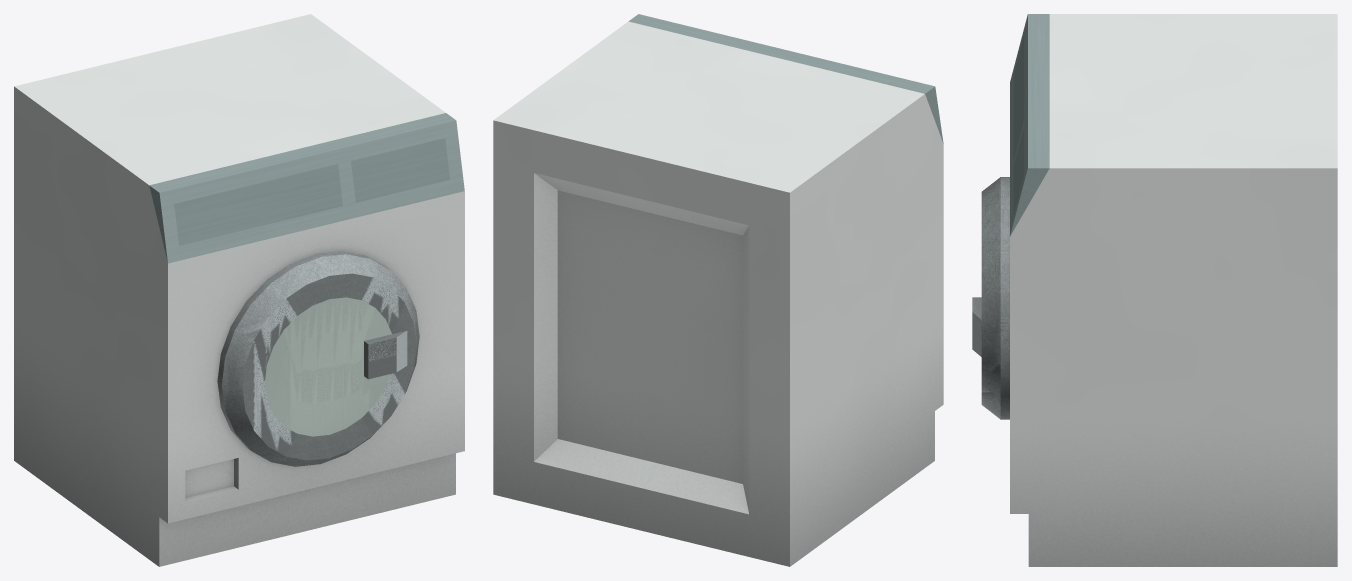
File: washer.glb
3 views of the same model, side by side, from view 1: azimuth 30°, elevation 25°; view 2: azimuth 150°, elevation 25°; view 3: azimuth 270°, elevation 25° (orthographic). The views are drawn at different scales.
Visible parts, largest first — view 1: washer; view 2: washer; view 3: washer.
Part boxes in pixels (left/top/right/bottom): washer: left=14, top=14, right=464, bottom=566; washer: left=493, top=14, right=943, bottom=566; washer: left=972, top=14, right=1337, bottom=566.
Size of the model in its own units: 0.78 by 0.94 by 0.78.
Materials: 6 (6 with a texture image).
